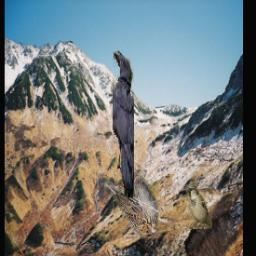Crow: (114, 51, 135, 198)
Sparrow: (96, 170, 159, 239), (186, 184, 212, 229)
